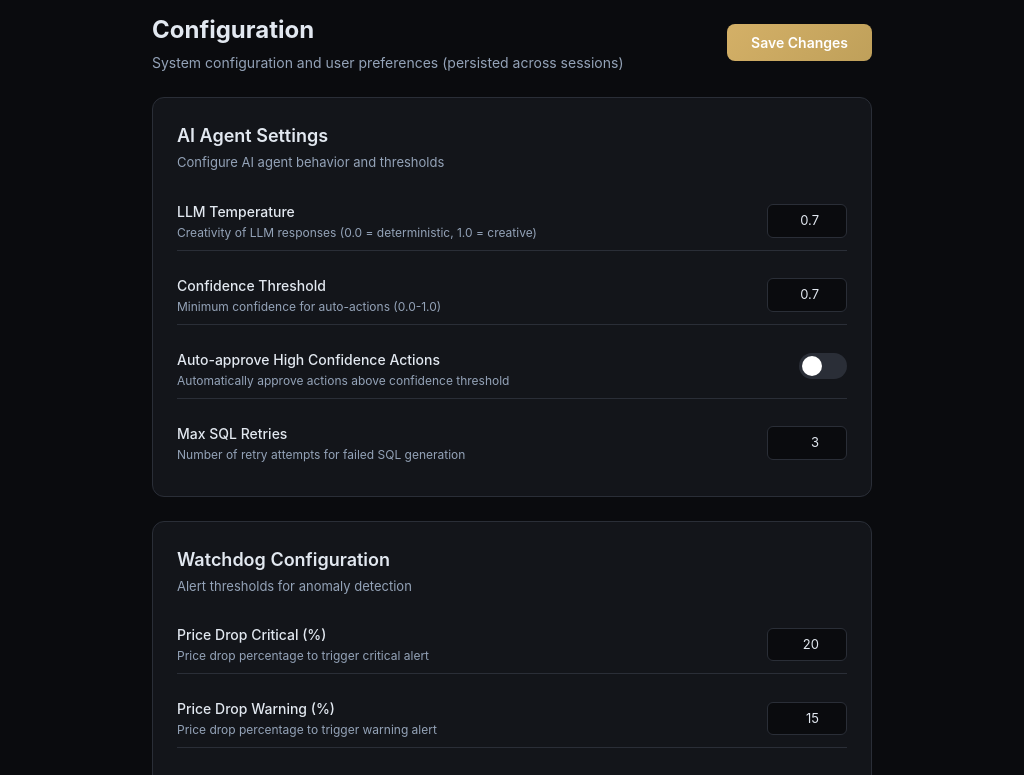
it: Config page › shows "Saved" confirmation after successful save
Click the button "Save Changes" at (800, 42), box [727,24,872,61]
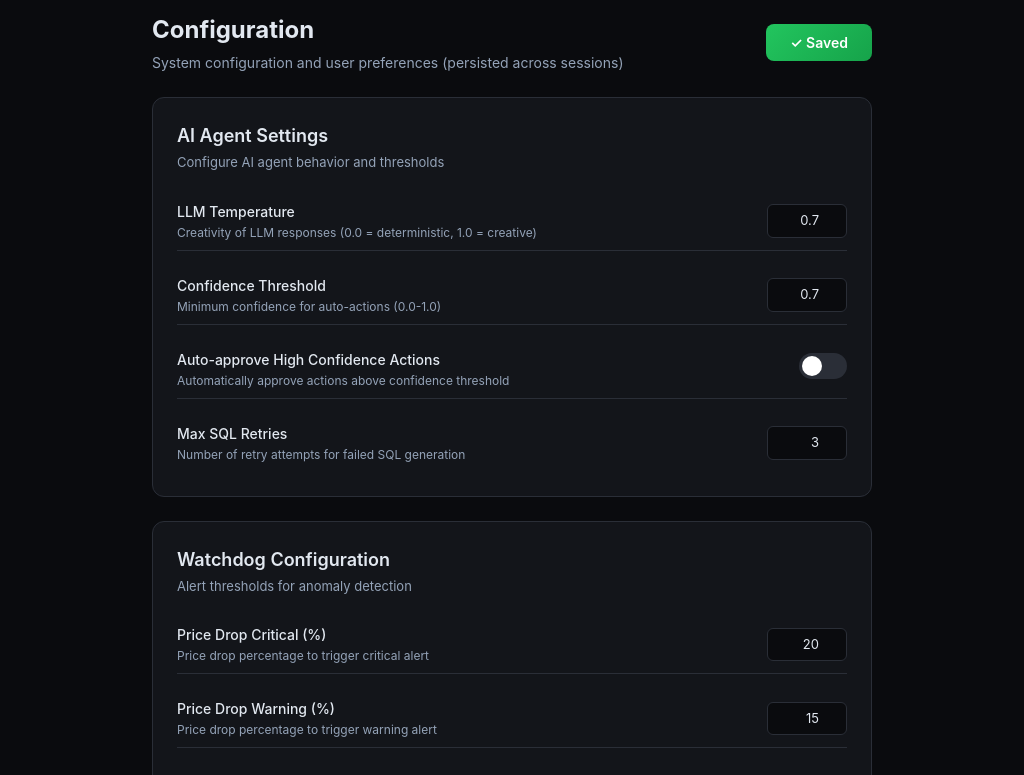
Check: the button "✓ Saved" is shown, box [766,24,872,61]
